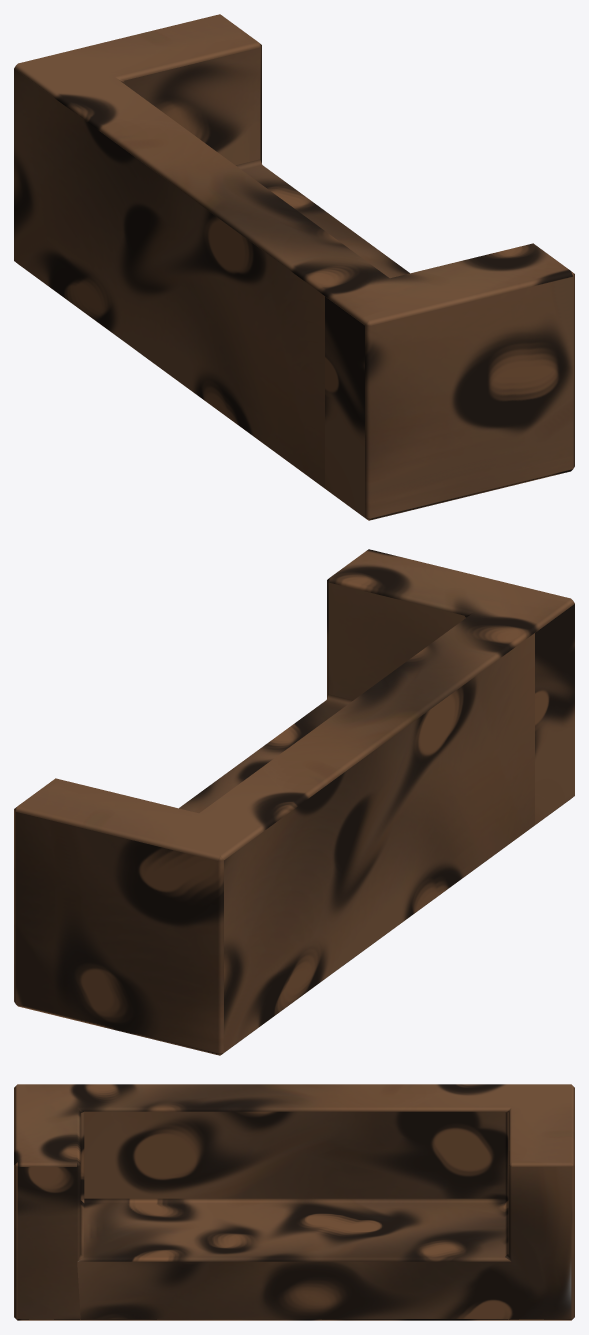
The model's file is divan.obj.
The picture shows the model from 3 angles, top to bottom: view 1: azimuth 30°, elevation 25°; view 2: azimuth 150°, elevation 25°; view 3: azimuth 270°, elevation 25°; orthographic projection. The views are drawn at different scales.
Parts seen in each view (by area): view 1: Cube.001; view 2: Cube.001; view 3: Cube.001.
Part boxes in pixels (x1,y1,x2,y2): Cube.001: (14, 14, 574, 520); Cube.001: (14, 549, 574, 1055); Cube.001: (14, 1084, 574, 1320).
Size of the model in its own units: 0.5885 by 0.5364 by 1.72.
Materials: 1 (1 with a texture image).
